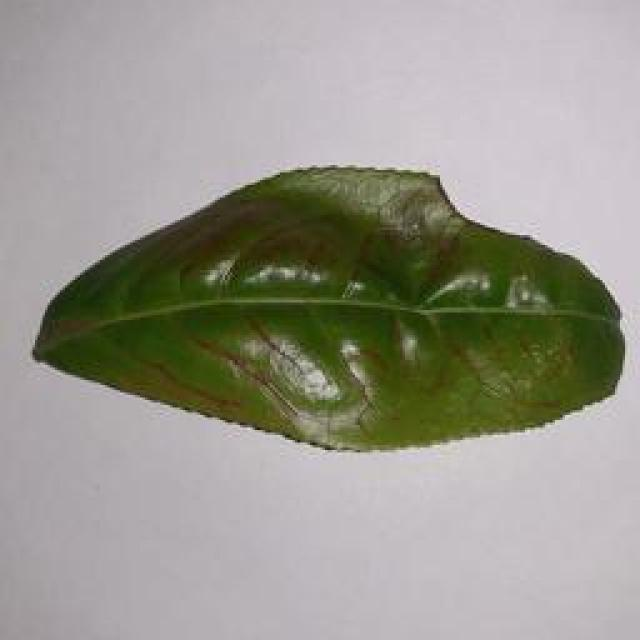Red Leaf Spot: (32, 150, 640, 472)
